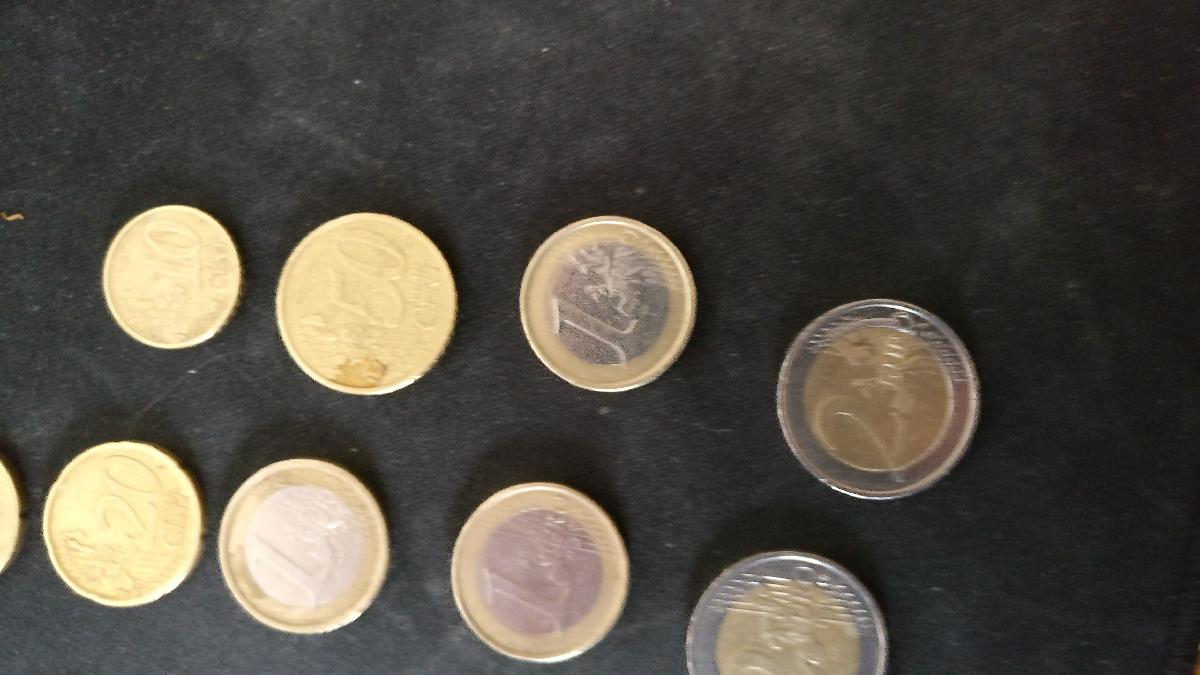Fifty Cent: (278, 212, 457, 396)
One Euro: (517, 213, 701, 394), (217, 458, 398, 640), (449, 481, 635, 657)
Ten Cent: (97, 206, 244, 352)
Twenty Cent: (47, 439, 208, 603)
Two Euro: (773, 294, 980, 503), (682, 550, 889, 675)
